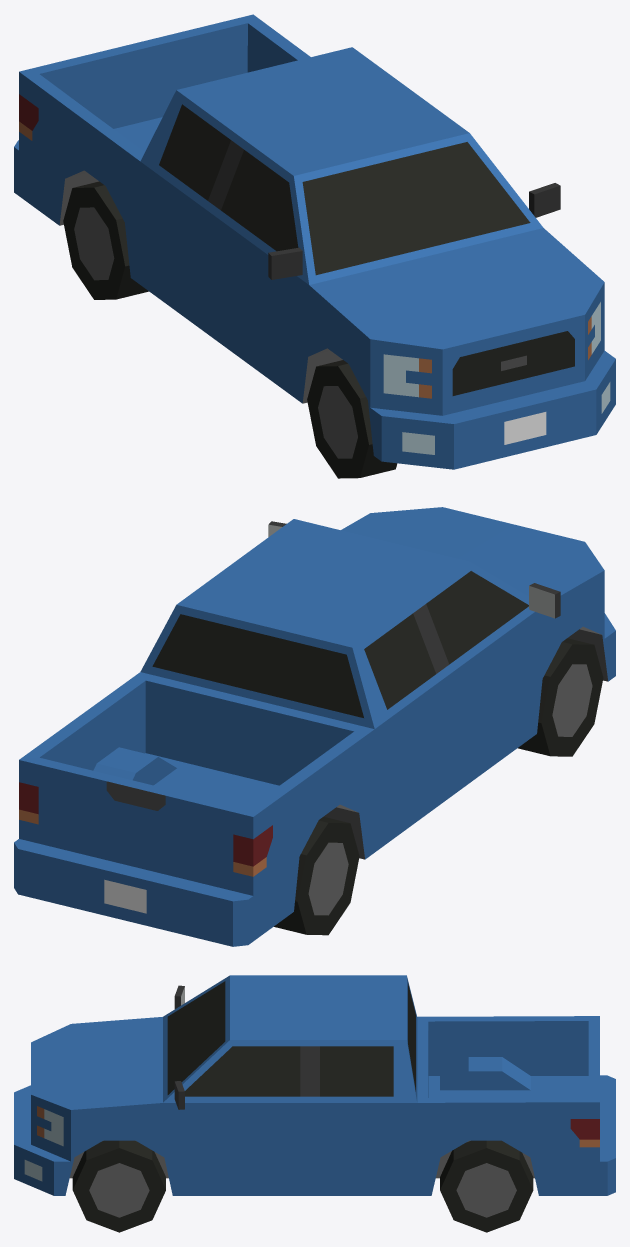
The model's file is Veh_Pickup_03_Blue.obj.
3 renders of one model, top to bottom at view 1: azimuth 30°, elevation 25°; view 2: azimuth 150°, elevation 25°; view 3: azimuth 270°, elevation 25°, orthographic. The views are drawn at different scales.
Bounding box in the file's own units: 1.37 × 1.1 × 3.29.
